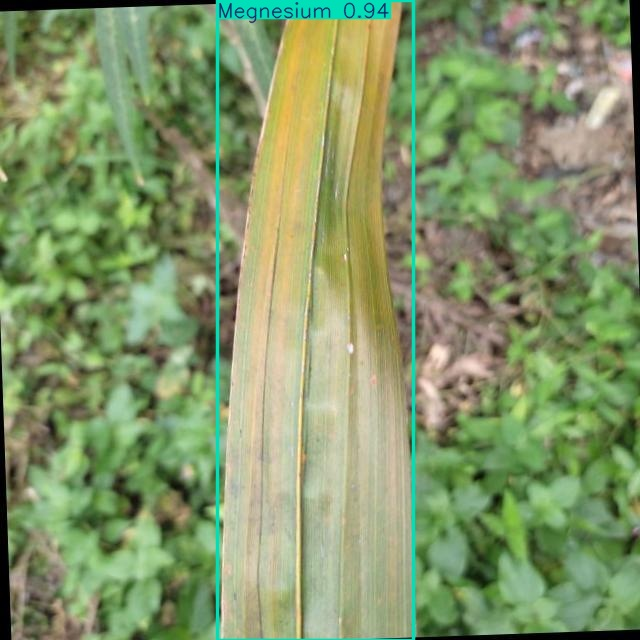Megnesium: (218, 0, 414, 640)
